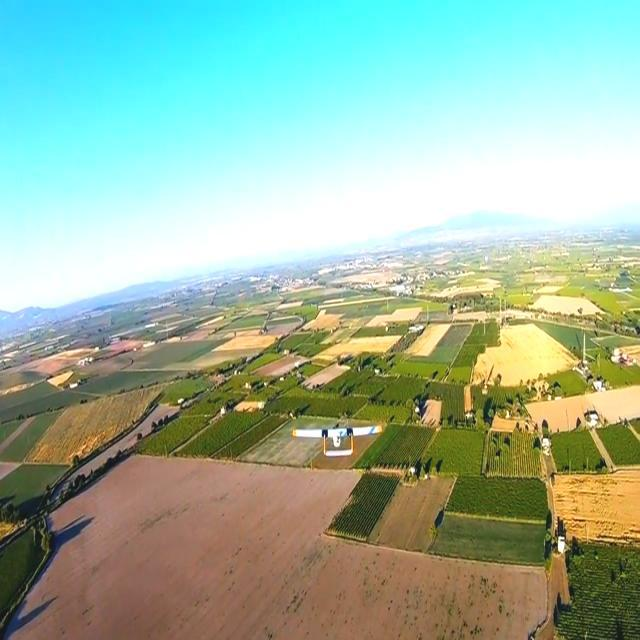iha: (323, 423, 355, 460)
